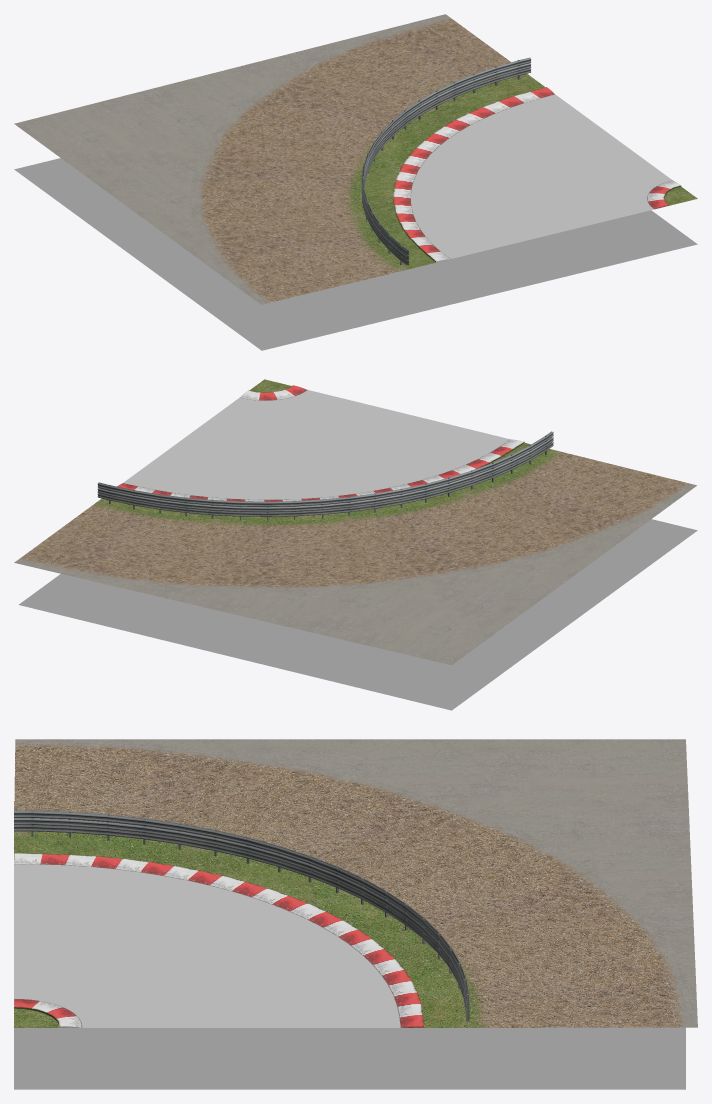
The model's file is Track_Curve_B_Gravel_Flipped.fbx.
The picture shows the model from 3 angles, top to bottom: view 1: azimuth 30°, elevation 25°; view 2: azimuth 150°, elevation 25°; view 3: azimuth 270°, elevation 25°; orthographic projection. The views are drawn at different scales.
Visible parts, largest first — view 1: Gravel, Snap_Plane_Invisible, Road, Concrete, Grass, Rail, Curb_A, Curb_B; view 2: Gravel, Snap_Plane_Invisible, Road, Concrete, Rail, Grass, Curb_A, Curb_B; view 3: Gravel, Road, Snap_Plane_Invisible, Concrete, Grass, Rail, Curb_A, Curb_B.
Boxes of the visible parts, <box> form: Gravel: <box>190,14,529,304</box>; Snap_Plane_Invisible: <box>14,158,697,350</box>; Road: <box>411,94,672,258</box>; Concrete: <box>14,15,439,293</box>; Grass: <box>360,76,697,269</box>; Rail: <box>361,57,531,265</box>; Curb_A: <box>393,87,554,262</box>; Curb_B: <box>647,180,681,209</box>; Gravel: <box>14,449,696,592</box>; Snap_Plane_Invisible: <box>18,519,697,710</box>; Road: <box>123,390,509,499</box>; Concrete: <box>21,496,682,665</box>; Rail: <box>97,431,553,520</box>; Grass: <box>98,379,552,520</box>; Curb_A: <box>117,439,524,501</box>; Curb_B: <box>240,385,307,400</box>; Gravel: <box>14,739,697,1027</box>; Road: <box>14,864,400,1027</box>; Snap_Plane_Invisible: <box>14,801,685,1089</box>; Concrete: <box>64,739,697,1025</box>; Grass: <box>14,835,468,1027</box>; Rail: <box>14,810,469,1021</box>; Curb_A: <box>14,853,423,1027</box>; Curb_B: <box>14,999,82,1027</box>.
Bounding box in the file's own units: 30.01 × 4.24 × 30.07.
